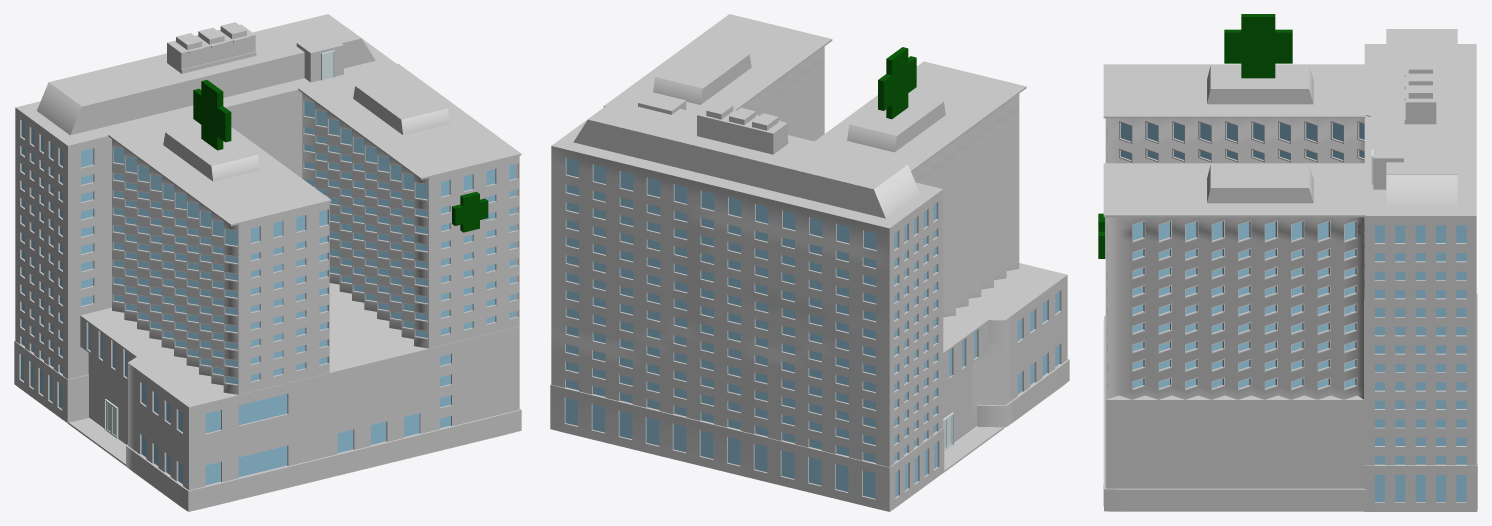
File: y_hospital.fbx
The picture shows the model from 3 angles, left to right: view 1: azimuth 30°, elevation 25°; view 2: azimuth 150°, elevation 25°; view 3: azimuth 270°, elevation 25°; orthographic projection. The views are drawn at different scales.
Parts seen in each view (by area): view 1: Box153, Box1119, Box161, Box164, Object06, Object36, Box162, Box1120, Box166, Box167, Object14, Box172 (+12 smaller); view 2: Box161, Object10, Box153, Box1119, Box166, Box167, Box1120, Box162, Box164, Box172, Box170, Object07 (+8 smaller); view 3: Box164, Box161, Box153, Box162, Box1120, Box1119, Box167, Object11, Object36, Box166, Box170, Object06 (+7 smaller).
Part boxes in pixels (left/top/right/bottom): Box153: left=80, top=283, right=521, bottom=511; Box1119: left=112, top=112, right=329, bottom=394; Box161: left=14, top=27, right=396, bottom=422; Box164: left=302, top=93, right=519, bottom=348; Object06: left=113, top=147, right=327, bottom=384; Object36: left=304, top=101, right=515, bottom=337; Box162: left=298, top=63, right=521, bottom=179; Box1120: left=108, top=114, right=331, bottom=226; Box166: left=37, top=38, right=375, bottom=135; Box167: left=49, top=14, right=361, bottom=106; Object14: left=205, top=394, right=419, bottom=485; Box172: left=167, top=22, right=256, bottom=73; Box161: left=550, top=107, right=944, bottom=511; Object10: left=565, top=158, right=876, bottom=498; Box153: left=943, top=263, right=1069, bottom=442; Box1119: left=911, top=94, right=1019, bottom=317; Box166: left=573, top=119, right=919, bottom=218; Box167: left=588, top=94, right=907, bottom=189; Box1120: left=814, top=61, right=1026, bottom=172; Box162: left=603, top=14, right=832, bottom=113; Box164: left=741, top=46, right=824, bottom=141; Box172: left=697, top=102, right=788, bottom=154; Box170: left=655, top=42, right=749, bottom=88; Object07: left=894, top=203, right=936, bottom=461; Box164: left=1105, top=217, right=1364, bottom=399; Box161: left=1364, top=44, right=1477, bottom=511; Box153: left=1103, top=299, right=1366, bottom=511; Box162: left=1103, top=163, right=1365, bottom=217; Box1120: left=1103, top=64, right=1365, bottom=118; Box1119: left=1105, top=67, right=1370, bottom=298; Box167: left=1386, top=29, right=1457, bottom=174; Object11: left=1375, top=225, right=1466, bottom=501; Object36: left=1133, top=221, right=1355, bottom=388; Box166: left=1386, top=175, right=1457, bottom=209; Box170: left=1210, top=163, right=1308, bottom=187; Object06: left=1121, top=122, right=1364, bottom=287.
Bounding box in the file's own units: 202 × 203 × 186.
